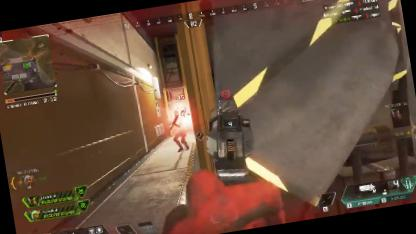Target: (168, 107, 191, 152)
